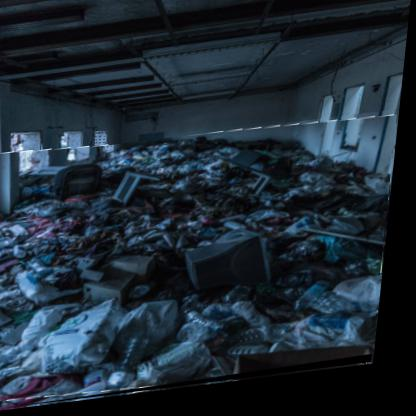Garbage: (1, 121, 403, 416)
